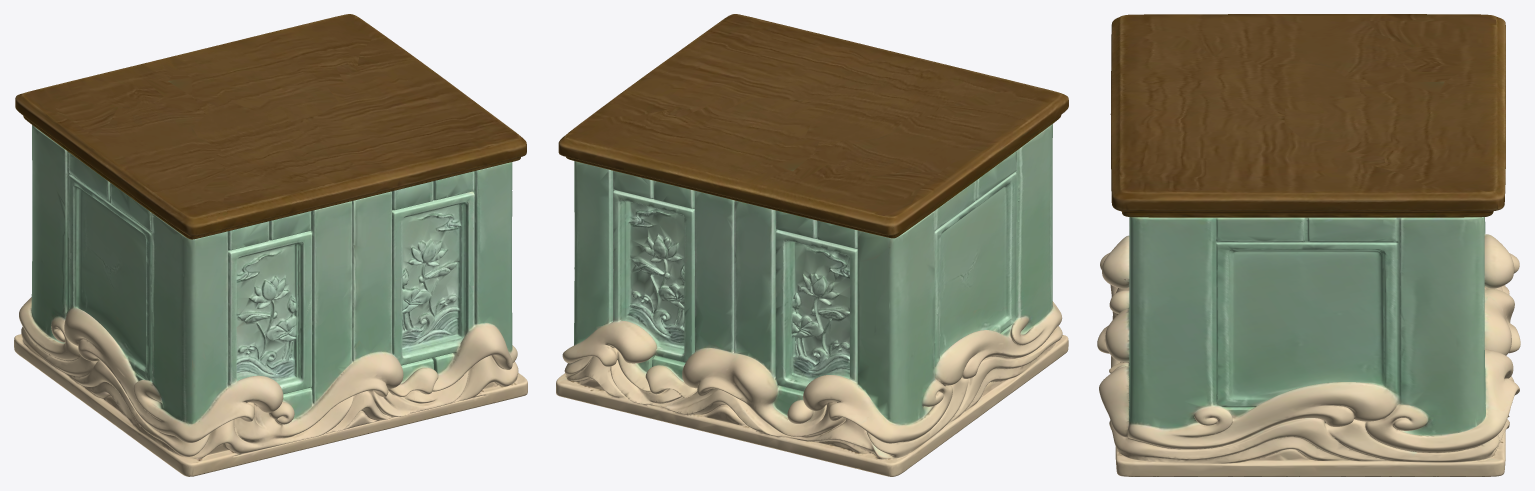
Rendered from act1_nw_pedestal_rodin.glb.
The picture shows the model from 3 angles, left to right: view 1: azimuth 30°, elevation 25°; view 2: azimuth 150°, elevation 25°; view 3: azimuth 270°, elevation 25°; orthographic projection. The views are drawn at different scales.
Parts seen in each view (by area): view 1: SM_Act1_NWPedestal; view 2: SM_Act1_NWPedestal; view 3: SM_Act1_NWPedestal.
Part boxes in pixels (x1,y1,x2,y2): SM_Act1_NWPedestal: [14, 14, 527, 476]; SM_Act1_NWPedestal: [556, 14, 1068, 476]; SM_Act1_NWPedestal: [1097, 14, 1520, 476].
Size of the model in its own units: 3.78 by 2.61 by 3.56.
1 material, 1 textured.
